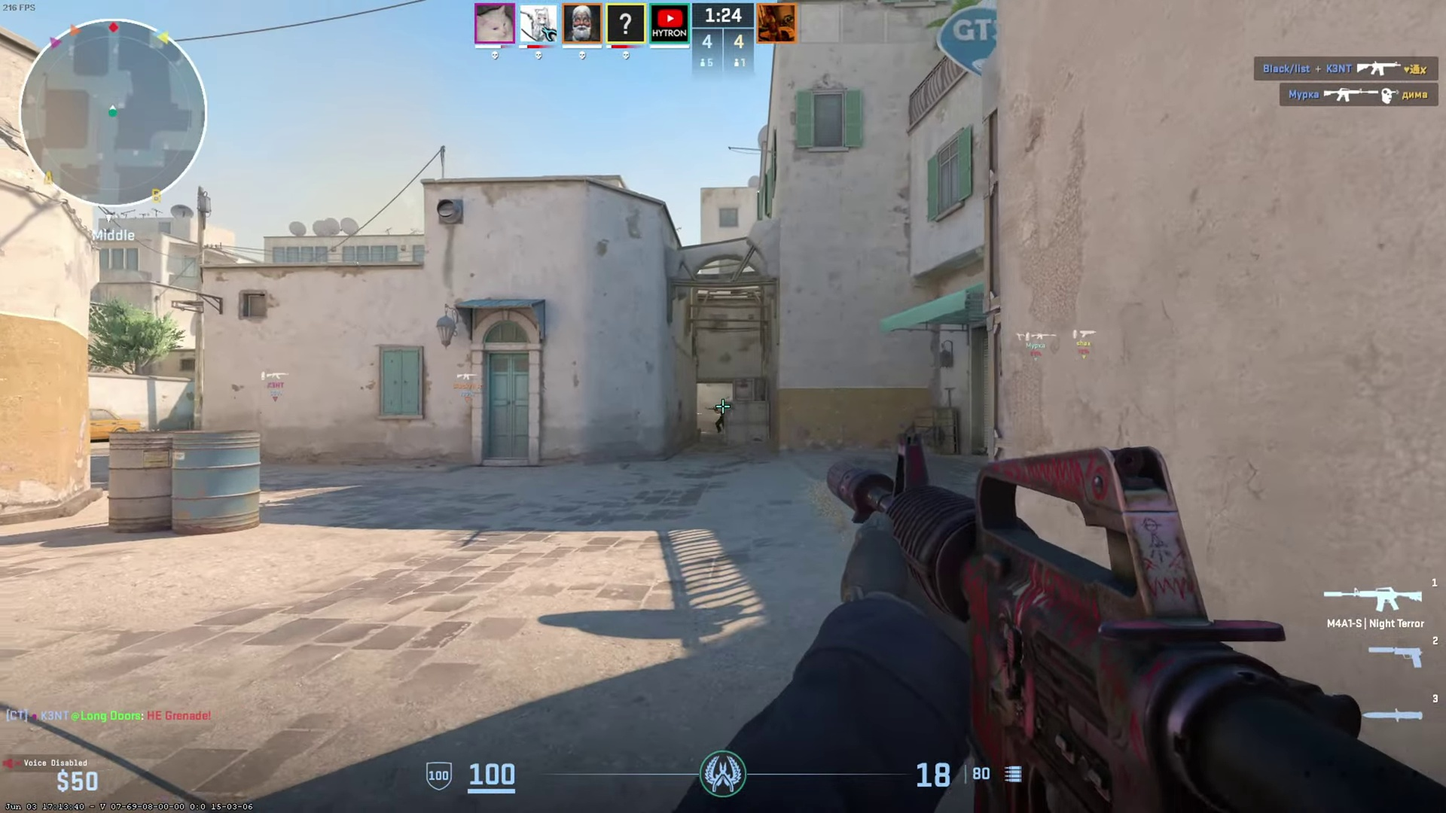Terrorist: (715, 404, 723, 433)
